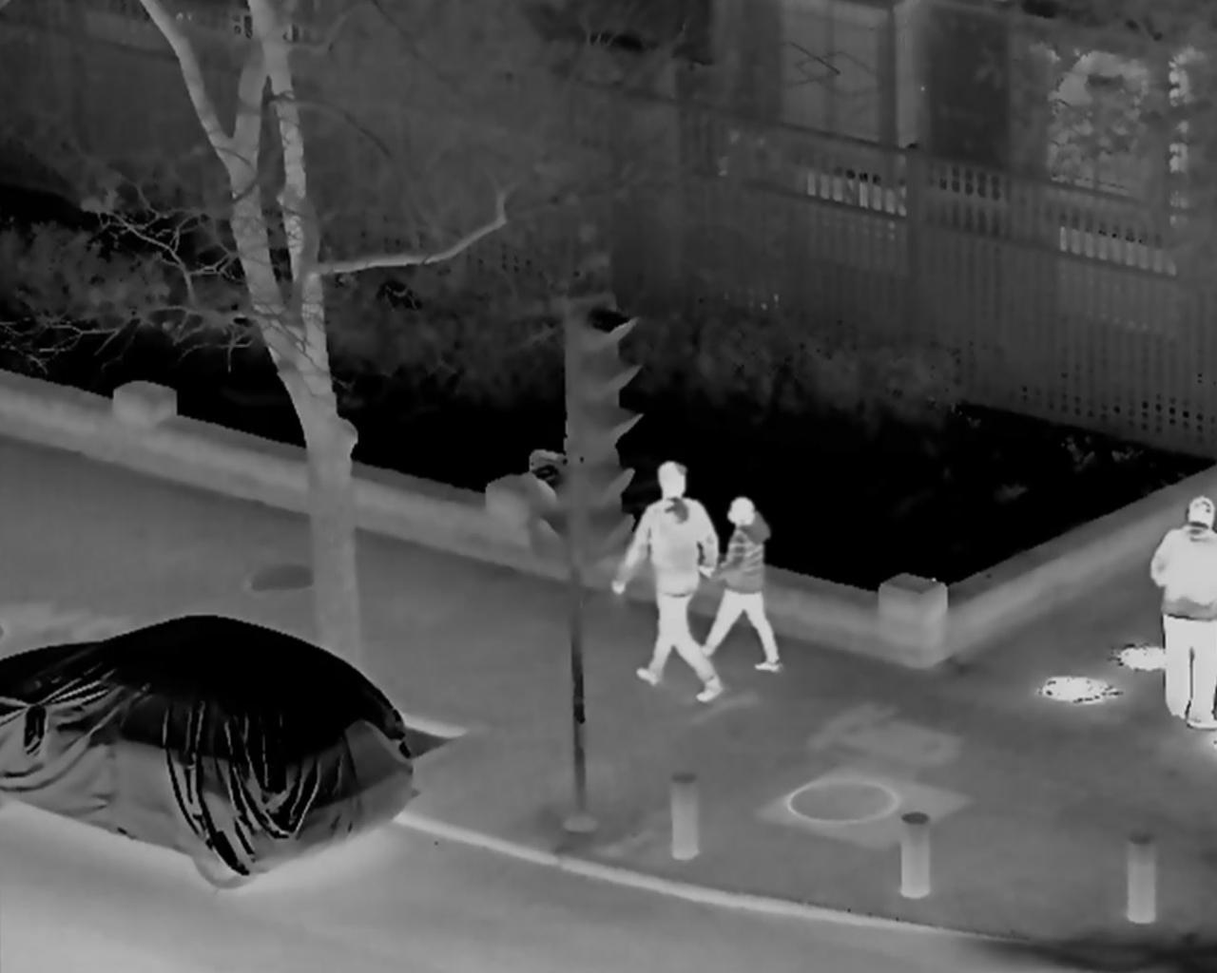person: (609, 460, 719, 700), (700, 498, 785, 678), (1150, 499, 1217, 727)
